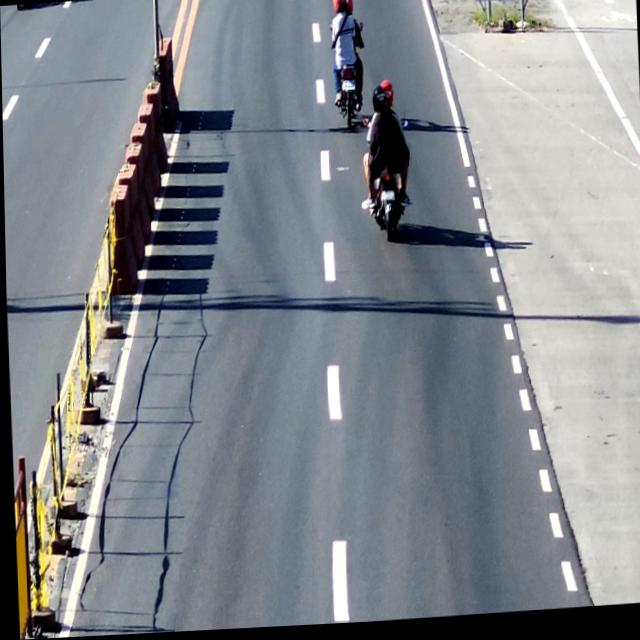License-Plate: (377, 190, 395, 209), (339, 80, 356, 98)
Motorcycle: (354, 79, 420, 256), (328, 0, 369, 137)
